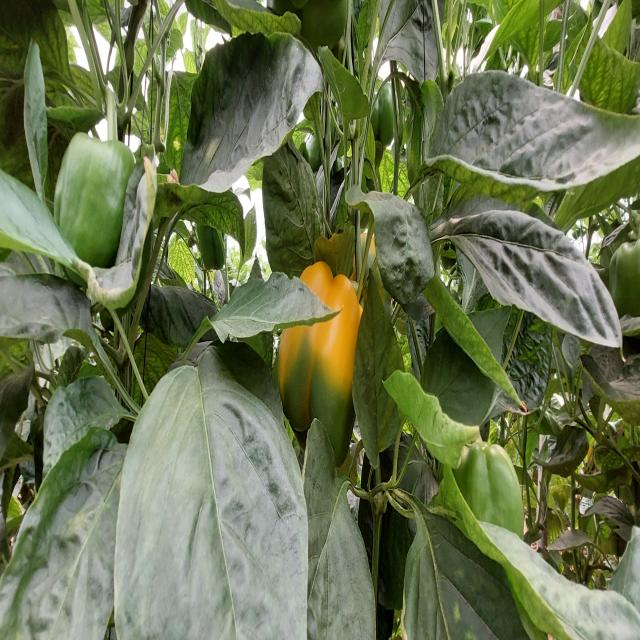GreenishYellow--Can-be-Harvested: (274, 220, 366, 448)
